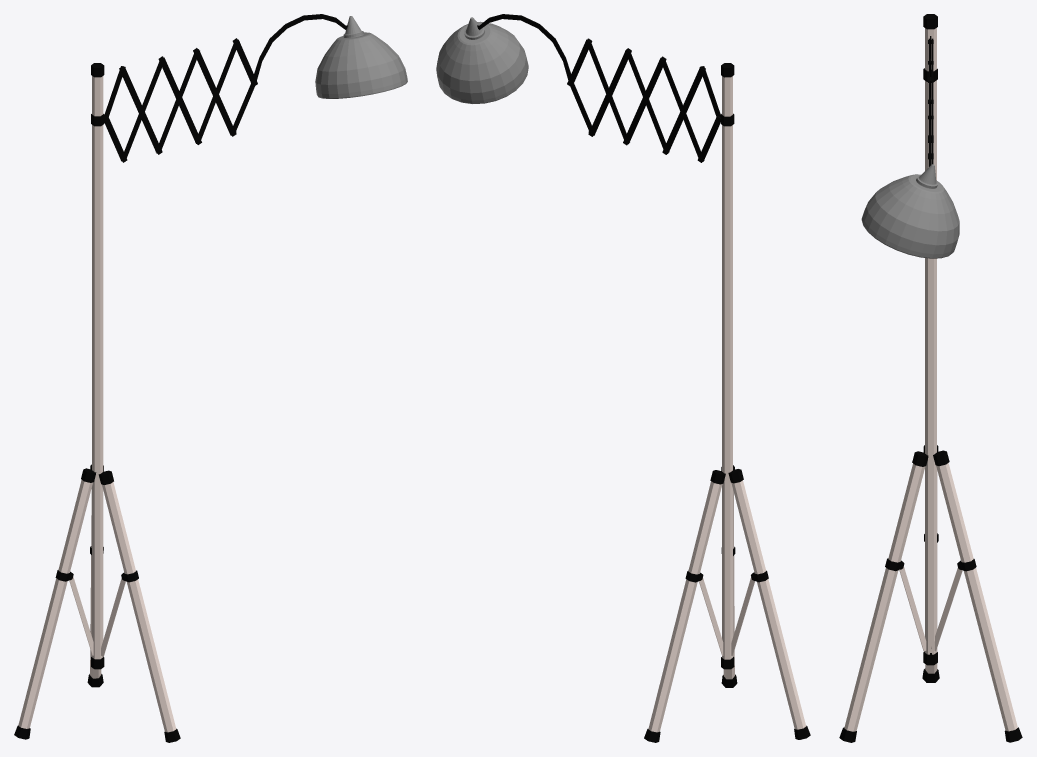
File: viking_hat_lamp.fbx
3 renders of one model, left to right at view 1: azimuth 30°, elevation 25°; view 2: azimuth 150°, elevation 25°; view 3: azimuth 270°, elevation 25°, orthographic. The views are drawn at different scales.
Visible parts, largest first — view 1: Cylinder.040; view 2: Cylinder.040; view 3: Cylinder.040.
Part boxes in pixels (left/top/right/bottom): Cylinder.040: left=14, top=14, right=407, bottom=742; Cylinder.040: left=436, top=14, right=810, bottom=742; Cylinder.040: left=839, top=14, right=1022, bottom=742.
Bounding box in the file's own units: 1039 × 1736 × 409.
